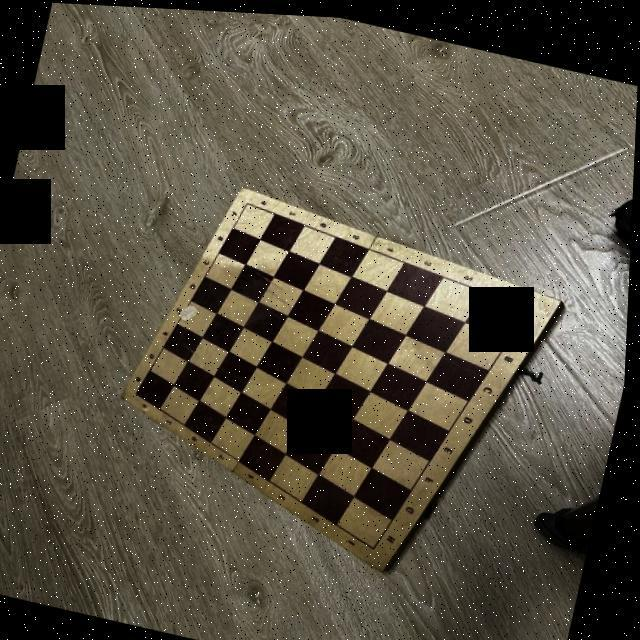chess-table-corners: (374, 539, 381, 547), (530, 298, 537, 304), (245, 197, 252, 203), (136, 388, 143, 393)
